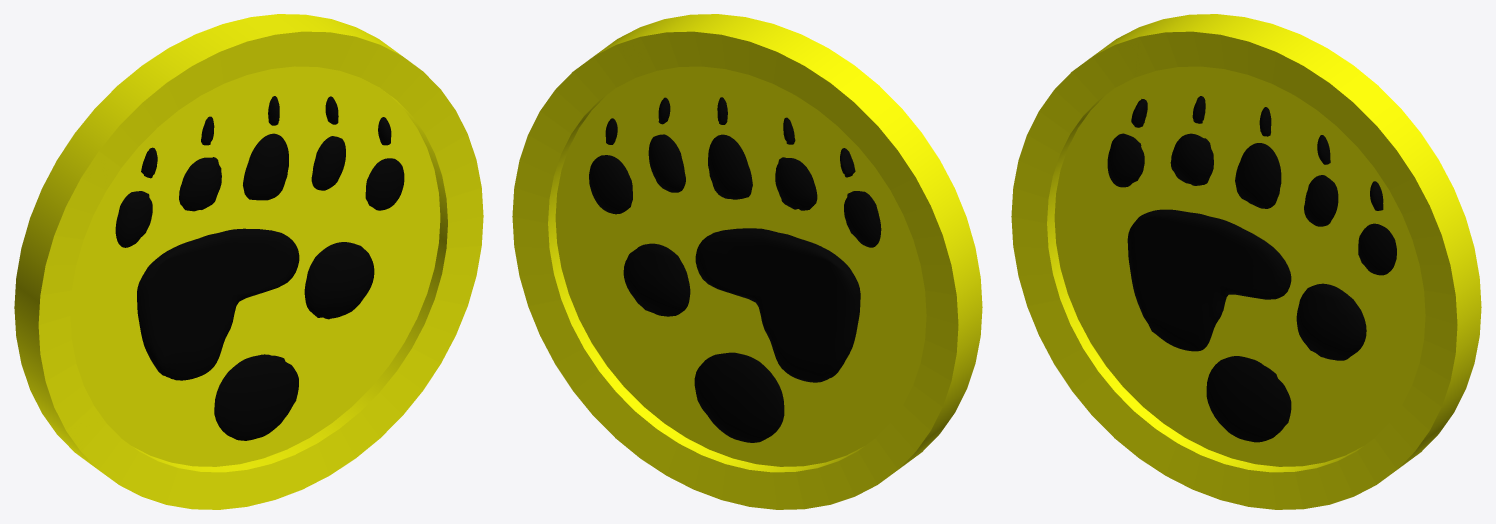
File: Moneda-animada.fbx
3 views of the same model, side by side, from view 1: azimuth 30°, elevation 25°; view 2: azimuth 150°, elevation 25°; view 3: azimuth 330°, elevation 25° (orthographic).
Visible parts, largest first — view 1: Moneda; view 2: Moneda; view 3: Moneda.
Part boxes in pixels (<box>): Moneda: <box>14,14,483,509</box>; Moneda: <box>512,14,982,509</box>; Moneda: <box>1011,14,1481,509</box>.
Size of the model in its own units: 5.18 by 5.17 by 0.4951.
